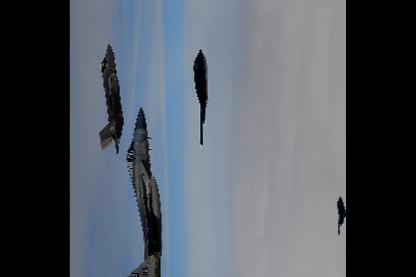B1: (194, 46, 208, 146), (338, 194, 346, 234)
F117: (115, 104, 162, 276)
F22: (100, 42, 124, 153)
